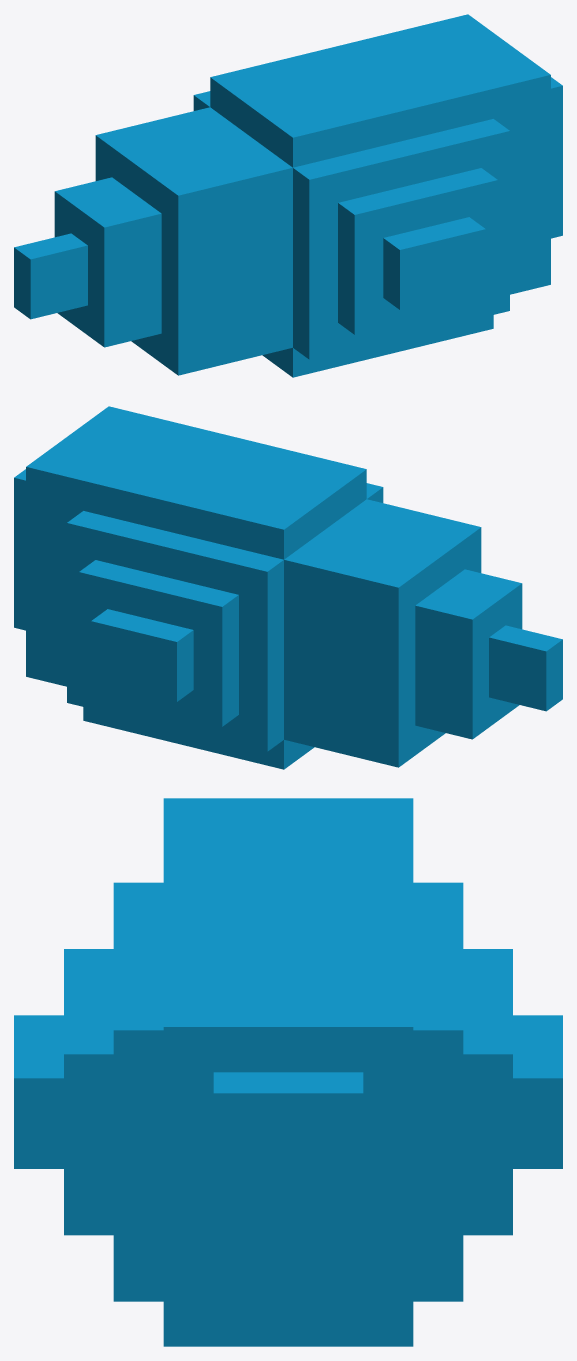
Rendered from Slime shot.gltf.
The picture shows the model from 3 angles, top to bottom: view 1: azimuth 30°, elevation 25°; view 2: azimuth 150°, elevation 25°; view 3: azimuth 270°, elevation 25°; orthographic projection. The views are drawn at different scales.
Parts seen in each view (by area): view 1: Layer.1; view 2: Layer.1; view 3: Layer.1.
Boxes of the visible parts, left/top/right/bottom form: Layer.1: left=14, top=14, right=562, bottom=377; Layer.1: left=14, top=406, right=562, bottom=769; Layer.1: left=14, top=798, right=562, bottom=1346.
Size of the model in its own units: 18 by 8 by 11.
1 material, 1 textured.
